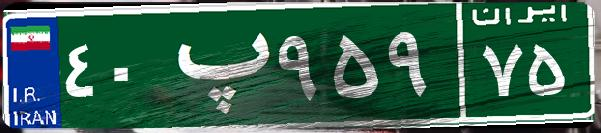0: (110, 28, 158, 105)
4: (57, 26, 110, 107)
5: (330, 28, 385, 110), (525, 38, 570, 115)
7: (475, 38, 525, 113)
9: (385, 28, 445, 110), (273, 28, 330, 110)
پ: (158, 15, 273, 115)
